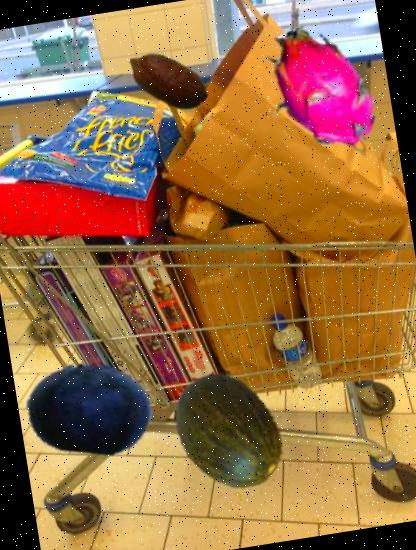Blueberry: (18, 336, 162, 480)
Melon: (161, 360, 302, 500)
Nut: (118, 30, 218, 130)
Pitahaya: (241, 16, 393, 168)
